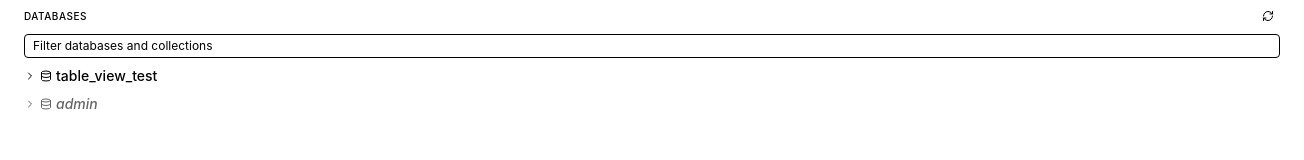
Scenario: DocumentDatabaseTree › expanding a database node lazy-loads its collections
Click the list item with aria-label "table_view_test database": (107, 75) [12,62,1292,90]
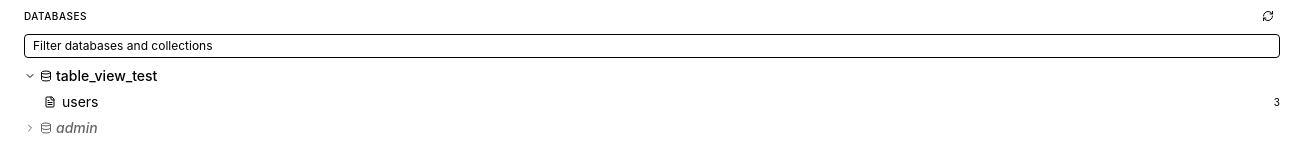
Expected: the list item with aria-label "users collection" is shown, [12,90,1292,114]
